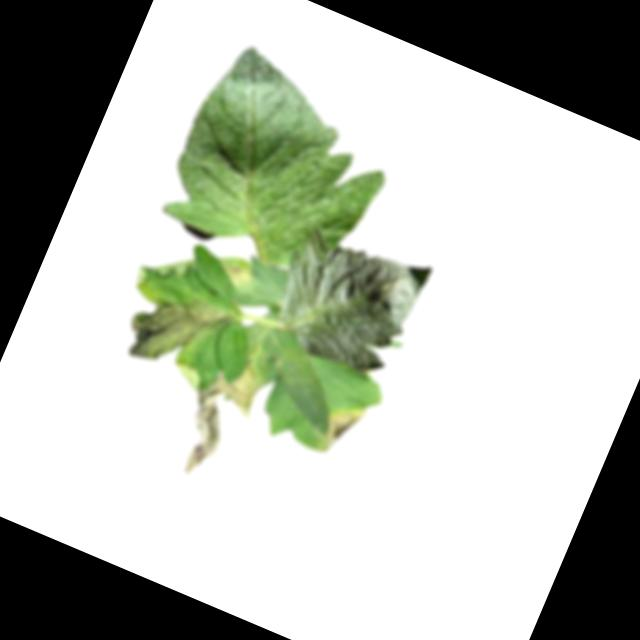Late_blight: (159, 345, 269, 491), (108, 270, 238, 387), (310, 396, 368, 464), (213, 256, 257, 293)
